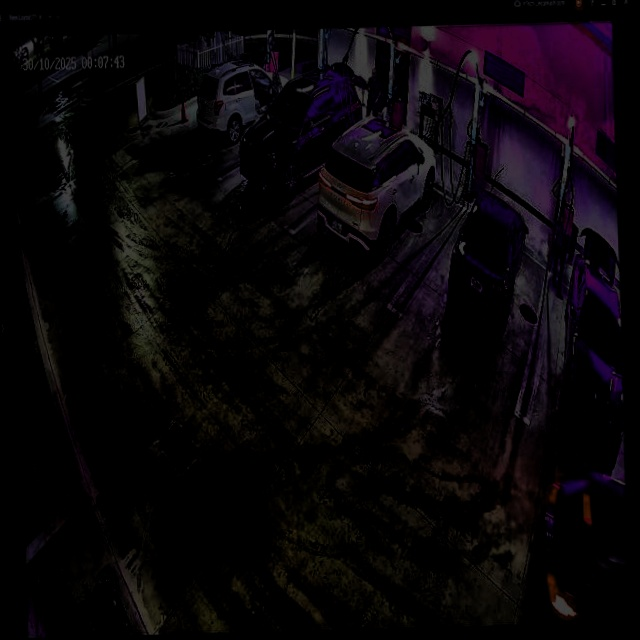Car: (317, 114, 440, 253), (237, 70, 364, 193), (447, 191, 529, 331), (196, 64, 290, 147)
